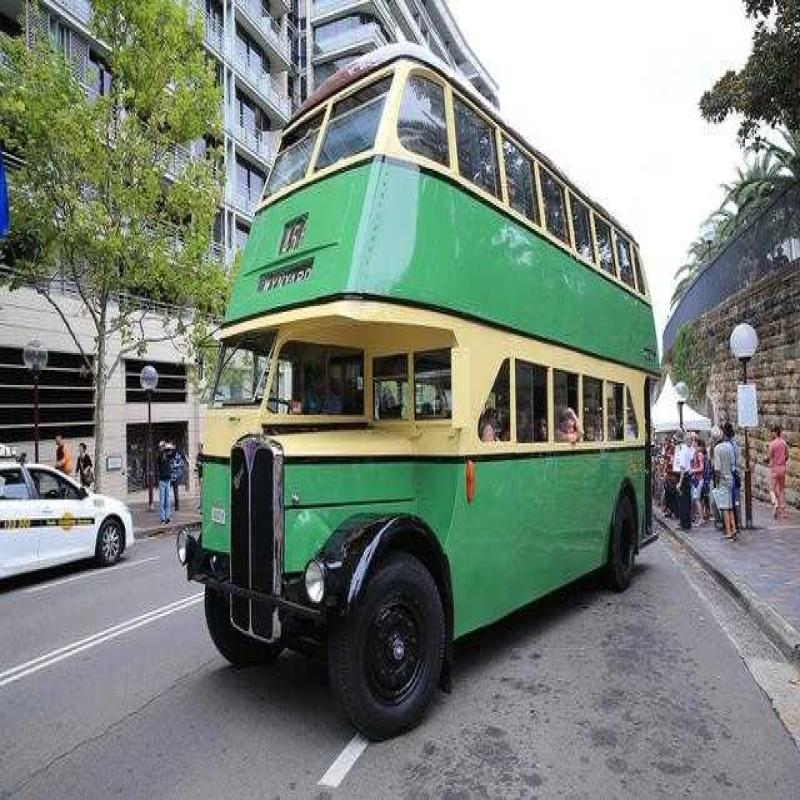bus: (181, 16, 682, 759)
